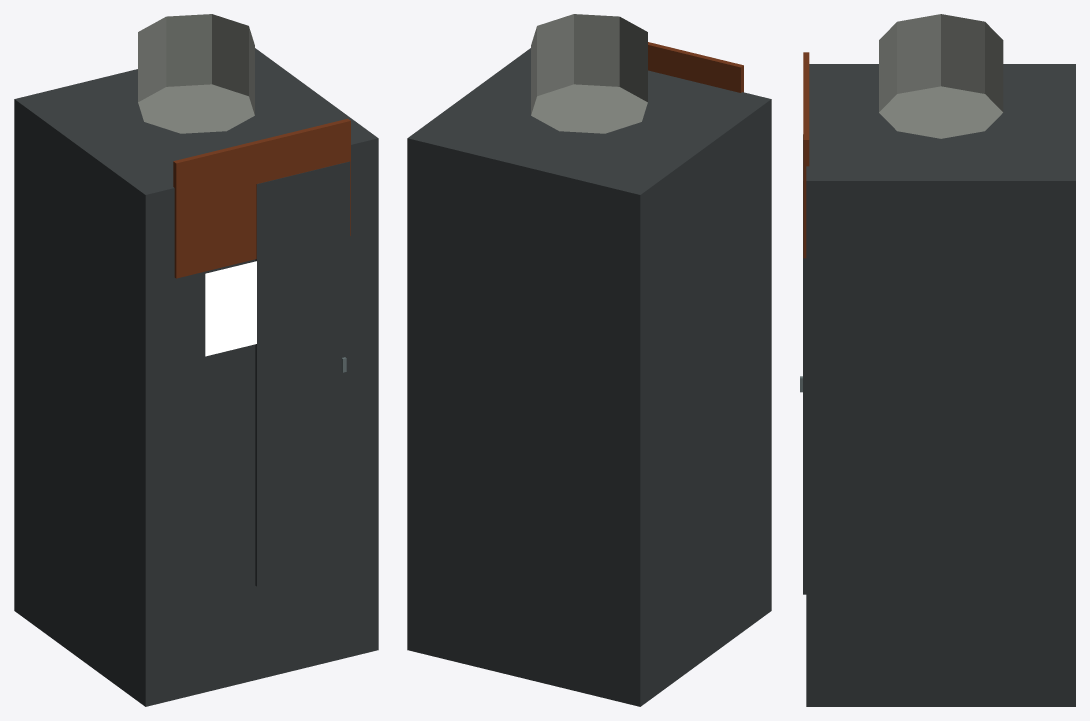
File: tan_booth.glb
3 views of the same model, side by side, from view 1: azimuth 30°, elevation 25°; view 2: azimuth 150°, elevation 25°; view 3: azimuth 270°, elevation 25° (orthographic). The views are drawn at different scales.
Parts seen in each view (by area): view 1: body, door_booth, emissive_panel; view 2: body; view 3: body, door_booth.
Boxes of the visible parts, bbox=[...] form: body: bbox=[14, 14, 378, 706]; door_booth: bbox=[255, 161, 350, 586]; emissive_panel: bbox=[205, 261, 256, 356]; body: bbox=[407, 14, 771, 706]; body: bbox=[803, 14, 1075, 706]; door_booth: bbox=[800, 134, 806, 594].
Size of the model in its own units: 0.8 by 1.94 by 0.7982.
2 materials, 2 textured.
